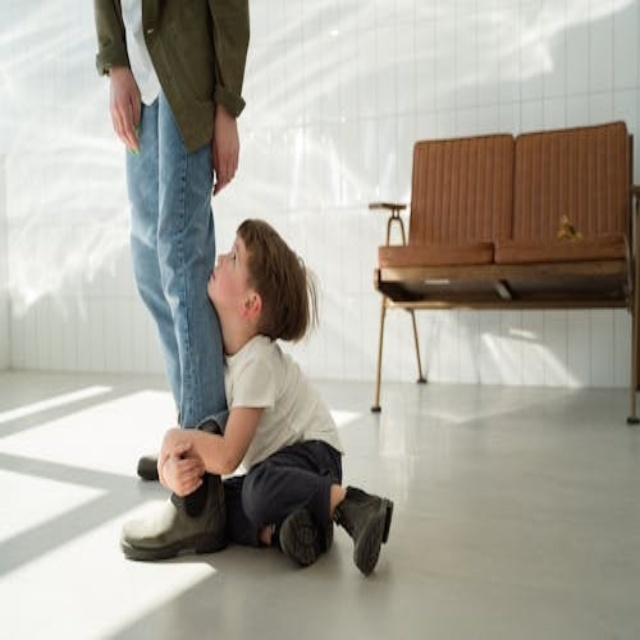Sin_gafas: (228, 236, 244, 292)
Sin_guantes: (100, 63, 147, 156), (159, 439, 204, 498), (212, 108, 241, 193)
Sin_mascara: (205, 256, 225, 300)
